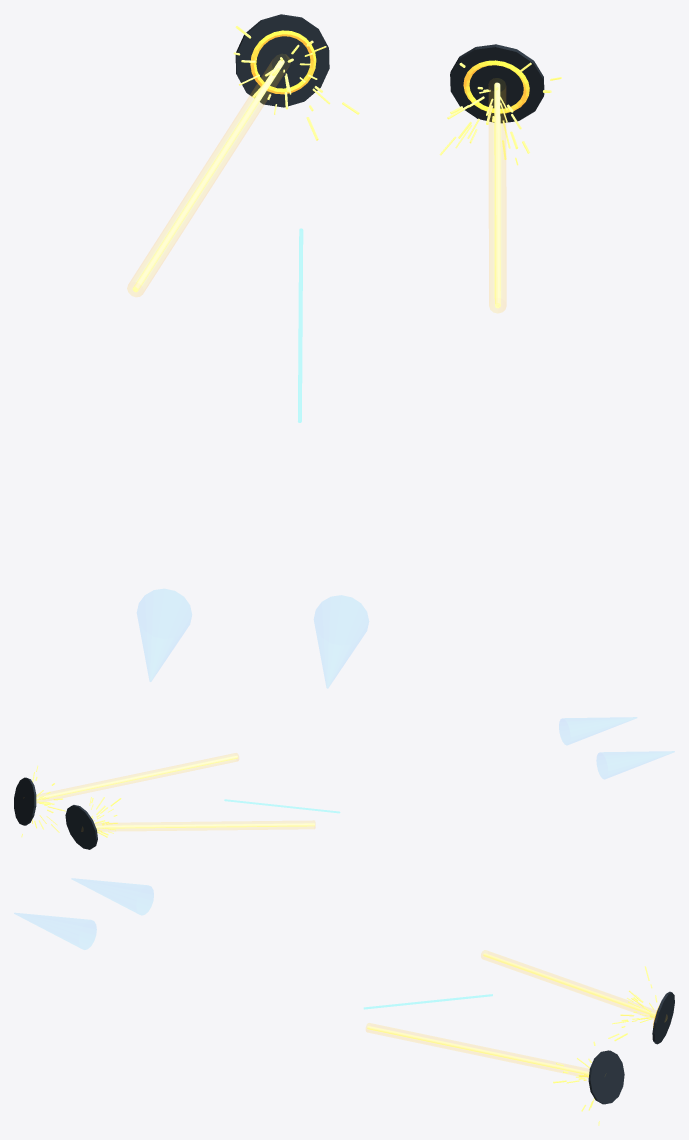
The model's file is mining_effects.glb.
3 views of the same model, one above another, from view 1: azimuth 30°, elevation 25°; view 2: azimuth 150°, elevation 25°; view 3: azimuth 270°, elevation 25° (orthographic). The views are drawn at different scales.
Visible parts, largest first — view 1: Mining impact | dark excavation scar, Mining impact | dark excavation scar.001, Drive | stationkeeping plume, Drive | stationkeeping plume.001, Mining beam | halo, Mining beam | halo.001, Mining beam | bright core, Mining beam | bright core.001, Mining impact | hot rim; view 2: Drive | stationkeeping plume.001, Drive | stationkeeping plume, Mining beam | halo, Mining beam | halo.001, Mining impact | dark excavation scar, Mining impact | dark excavation scar.001, Mining beam | bright core, Mining beam | bright core.001, Ore retrieval | cyan tether; view 3: Mining impact | dark excavation scar.001, Drive | stationkeeping plume, Drive | stationkeeping plume.001, Mining beam | halo.001, Mining beam | halo, Mining beam | bright core.001, Mining impact | dark excavation scar, Mining beam | bright core.
Part boxes in pixels (x1,y1,x2,y2): Mining impact | dark excavation scar: (235,14,329,107); Mining impact | dark excavation scar.001: (450,44,544,123); Drive | stationkeeping plume: (137,589,191,681); Drive | stationkeeping plume.001: (314,596,368,687); Mining beam | halo: (127,55,289,296); Mining beam | halo.001: (489,88,505,312); Mining beam | bright core: (132,60,284,292); Mining beam | bright core.001: (494,82,500,308); Mining impact | hot rim: (250,30,316,94); Drive | stationkeeping plume.001: (559,717,636,744); Drive | stationkeeping plume: (597,751,673,778); Mining beam | halo: (95,821,314,830); Mining beam | halo.001: (37,753,238,802); Mining impact | dark excavation scar: (65,805,97,849); Mining impact | dark excavation scar.001: (14,777,36,825); Mining beam | bright core: (95,823,314,828); Mining beam | bright core.001: (36,755,237,800); Ore retrieval | cyan tether: (224,799,339,812); Mining impact | dark excavation scar.001: (588,1050,624,1104); Drive | stationkeeping plume: (73,879,153,914); Drive | stationkeeping plume.001: (14,913,96,949); Mining beam | halo.001: (366,1023,588,1077); Mining beam | halo: (481,950,666,1021); Mining beam | bright core.001: (367,1026,589,1075); Mining impact | dark excavation scar: (652,991,674,1044); Mining beam | bright core: (483,953,655,1016).
Size of the model in its own units: 3.91 by 0.7329 by 4.64.
